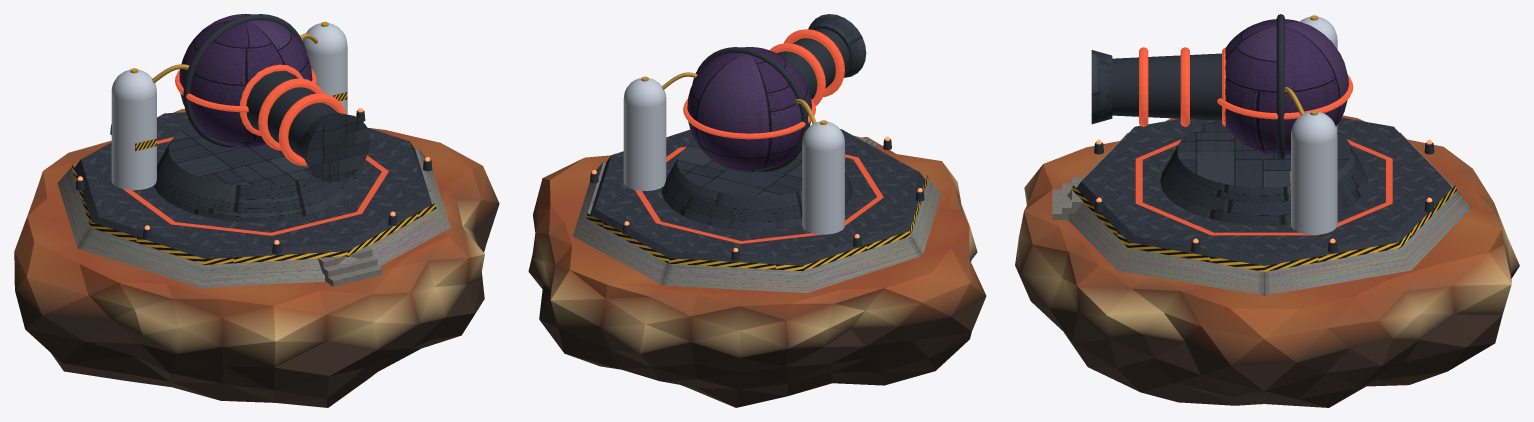
The model's file is thermobaric-L100.glb.
3 renders of one model, left to right at view 1: azimuth 30°, elevation 25°; view 2: azimuth 150°, elevation 25°; view 3: azimuth 270°, elevation 25°, orthographic. The views are drawn at different scales.
Visible parts, largest first — view 1: object 1, anim:rc, object 4, object 25, object 2, object 26, object 3, object 31, object 5, object 27, object 32, object 22 (+1 smaller); view 2: object 1, anim:rc, object 4, object 2, object 25, object 31, object 26, object 3, object 5, object 27, object 32; view 3: object 1, object 4, anim:rc, object 25, object 2, object 31, object 3, object 5, object 32.
Boxes of the visible parts, <box> form: object 1: <box>14,108,499,407</box>; anim:rc: <box>175,14,370,182</box>; object 4: <box>74,112,432,259</box>; object 25: <box>153,125,355,221</box>; object 2: <box>57,147,450,288</box>; object 26: <box>111,93,156,190</box>; object 3: <box>71,163,436,264</box>; object 31: <box>306,47,347,114</box>; object 5: <box>123,137,388,235</box>; object 27: <box>111,69,156,101</box>; object 32: <box>302,23,347,54</box>; object 22: <box>325,265,382,286</box>; object 1: <box>528,137,986,407</box>; anim:rc: <box>683,14,866,172</box>; object 4: <box>590,129,925,265</box>; object 2: <box>573,160,941,293</box>; object 25: <box>662,141,852,230</box>; object 31: <box>623,99,666,190</box>; object 26: <box>802,143,844,234</box>; object 3: <box>586,175,928,271</box>; object 5: <box>635,146,883,243</box>; object 27: <box>802,121,844,151</box>; object 32: <box>623,78,666,107</box>; object 1: <box>1015,115,1519,407</box>; object 4: <box>1076,117,1452,265</box>; anim:rc: <box>1091,14,1353,159</box>; object 25: <box>1160,120,1368,225</box>; object 2: <box>1067,132,1471,295</box>; object 31: <box>1291,135,1337,234</box>; object 3: <box>1071,185,1456,271</box>; object 5: <box>1135,139,1392,235</box>; object 32: <box>1291,111,1337,144</box>.
Bounding box in the file's own units: 6.49 × 4.31 × 6.07.
13 materials, 6 textured.
